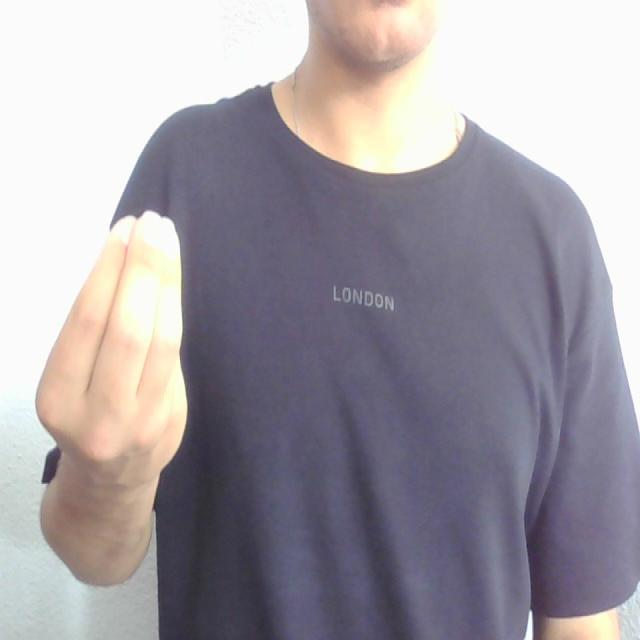iyi: (33, 193, 203, 481)
